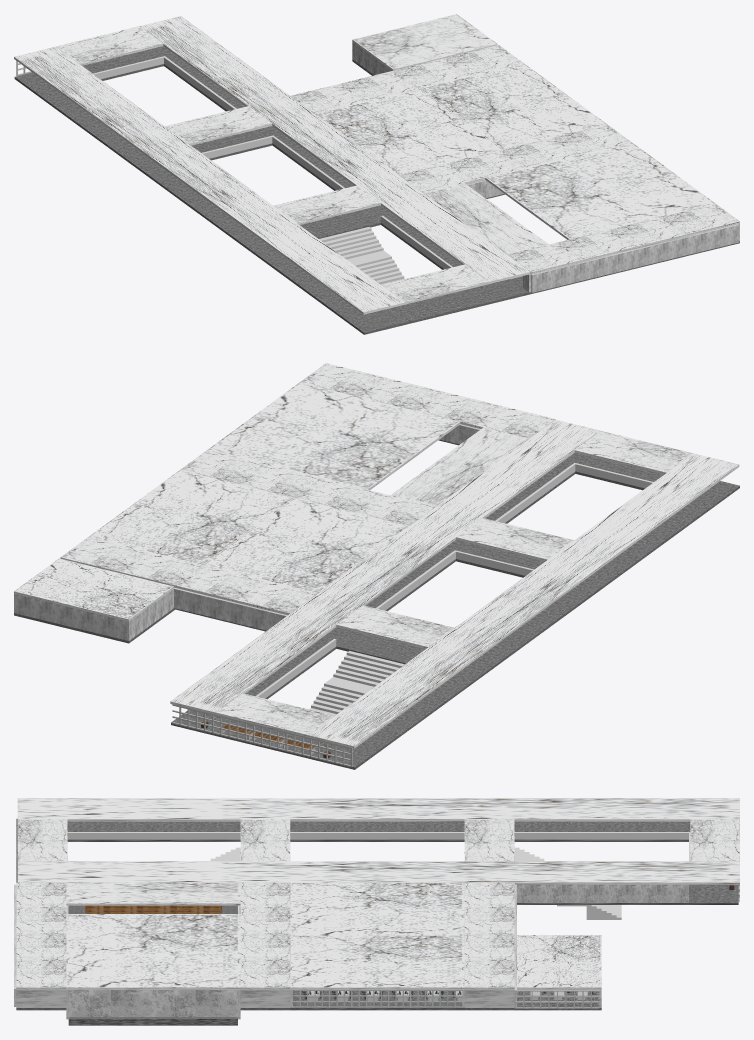
File: dereks_lab.fbx
3 renders of one model, top to bottom at view 1: azimuth 30°, elevation 25°; view 2: azimuth 150°, elevation 25°; view 3: azimuth 270°, elevation 25°, orthographic. The views are drawn at different scales.
Visible parts, largest first — view 1: roof-col.010, roof-col.007, roof-col.003, roof-col.008, roof-col, corridor_floor-col.004, roof-col.004, roof-col.001, roof-col.002, roof-col.005, corridor_floor-col.014, roof-col.009 (+18 smaller); view 2: roof-col.010, roof-col.007, roof-col.003, roof-col, roof-col.008, corridor_floor-col.004, roof-col.002, roof-col.004, roof-col.001, roof-col.005, corridor_floor-col.014, roof-col.009 (+19 smaller); view 3: roof-col.010, roof-col.007, roof-col.003, roof-col, roof-col.008, corridor_floor-col.004, roof-col.002, roof-col.004, roof-col.001, roof-col.005, back_wall1-col.004, roof-col.009 (+20 smaller).
Part boxes in pixels (left/top/right/bottom): roof-col.010: left=14, top=46, right=405, bottom=314; roof-col.007: left=139, top=16, right=530, bottom=283; roof-col.003: left=485, top=142, right=715, bottom=239; roof-col.008: left=314, top=88, right=502, bottom=175; roof-col: left=419, top=62, right=606, bottom=149; corridor_floor-col.004: left=14, top=72, right=405, bottom=334; roof-col.004: left=507, top=204, right=739, bottom=274; roof-col.001: left=399, top=124, right=630, bottom=192; roof-col.002: left=290, top=45, right=522, bottom=113; roof-col.005: left=352, top=14, right=497, bottom=70; corridor_floor-col.014: left=146, top=46, right=531, bottom=304; roof-col.009: left=423, top=182, right=548, bottom=254; roof-col.010: left=308, top=453, right=739, bottom=748; roof-col.007: left=170, top=419, right=600, bottom=714; roof-col.003: left=207, top=382, right=460, bottom=490; roof-col: left=87, top=470, right=294, bottom=565; roof-col.008: left=202, top=498, right=409, bottom=593; corridor_floor-col.004: left=309, top=481, right=739, bottom=769; roof-col.002: left=60, top=538, right=316, bottom=615; roof-col.004: left=300, top=363, right=555, bottom=438; roof-col.001: left=180, top=450, right=435, bottom=525; roof-col.005: left=14, top=558, right=173, bottom=621; corridor_floor-col.014: left=171, top=453, right=593, bottom=736; roof-col.009: left=391, top=427, right=528, bottom=506; roof-col.010: left=17, top=798, right=739, bottom=821; roof-col.007: left=17, top=861, right=739, bottom=884; roof-col.003: left=66, top=914, right=240, bottom=989; roof-col: left=290, top=935, right=464, bottom=989; roof-col.008: left=290, top=882, right=464, bottom=934; corridor_floor-col.004: left=16, top=818, right=690, bottom=841; roof-col.002: left=464, top=882, right=514, bottom=989; roof-col.004: left=16, top=882, right=66, bottom=989; roof-col.001: left=240, top=882, right=290, bottom=989; roof-col.005: left=517, top=935, right=601, bottom=989; back_wall1-col.004: left=68, top=990, right=237, bottom=1016; roof-col.009: left=66, top=882, right=240, bottom=905.
Bounding box in the file's own units: 182 × 292 × 28.5.
27 materials, 26 textured.
